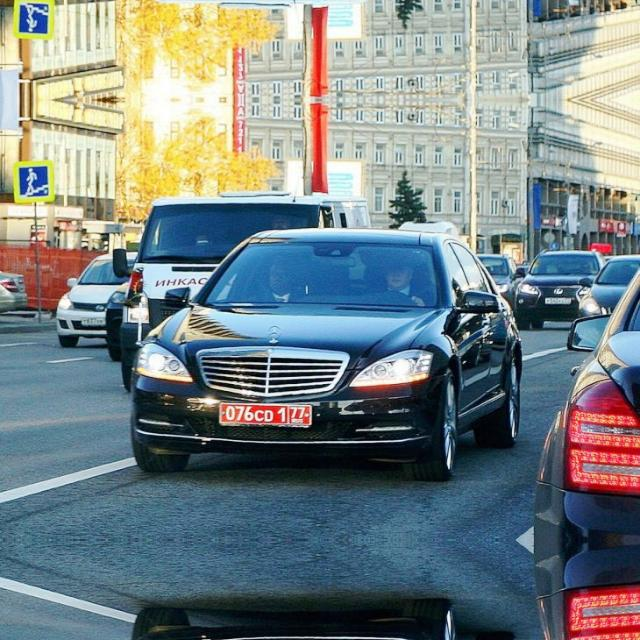diplomatic: (217, 396, 315, 432)
